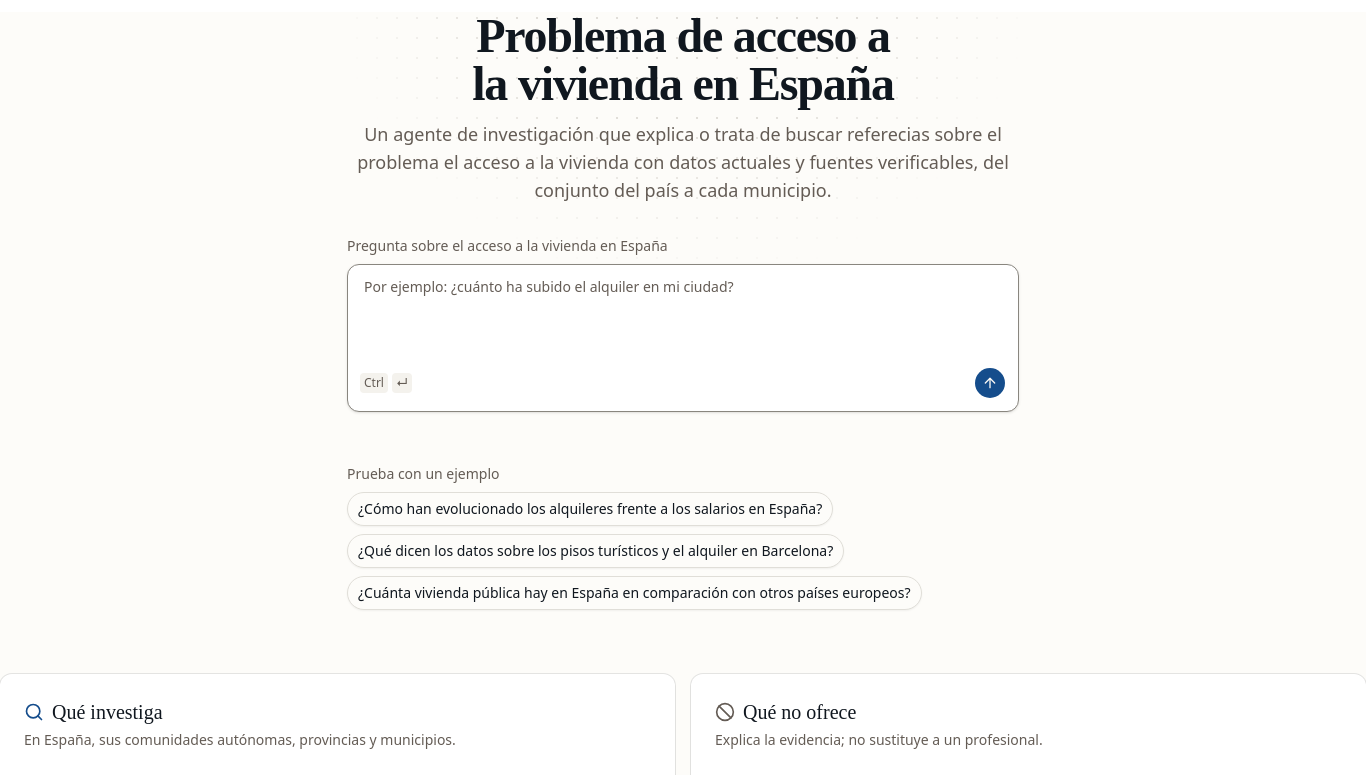
HomeView › replaces a draft with the chosen example
The image size is (1366, 775).
In the text box labelled "Pregunta sobre el acceso a la vivienda en España": [683, 313] box 348,265 -> 1018,361, type "Mi borrador"
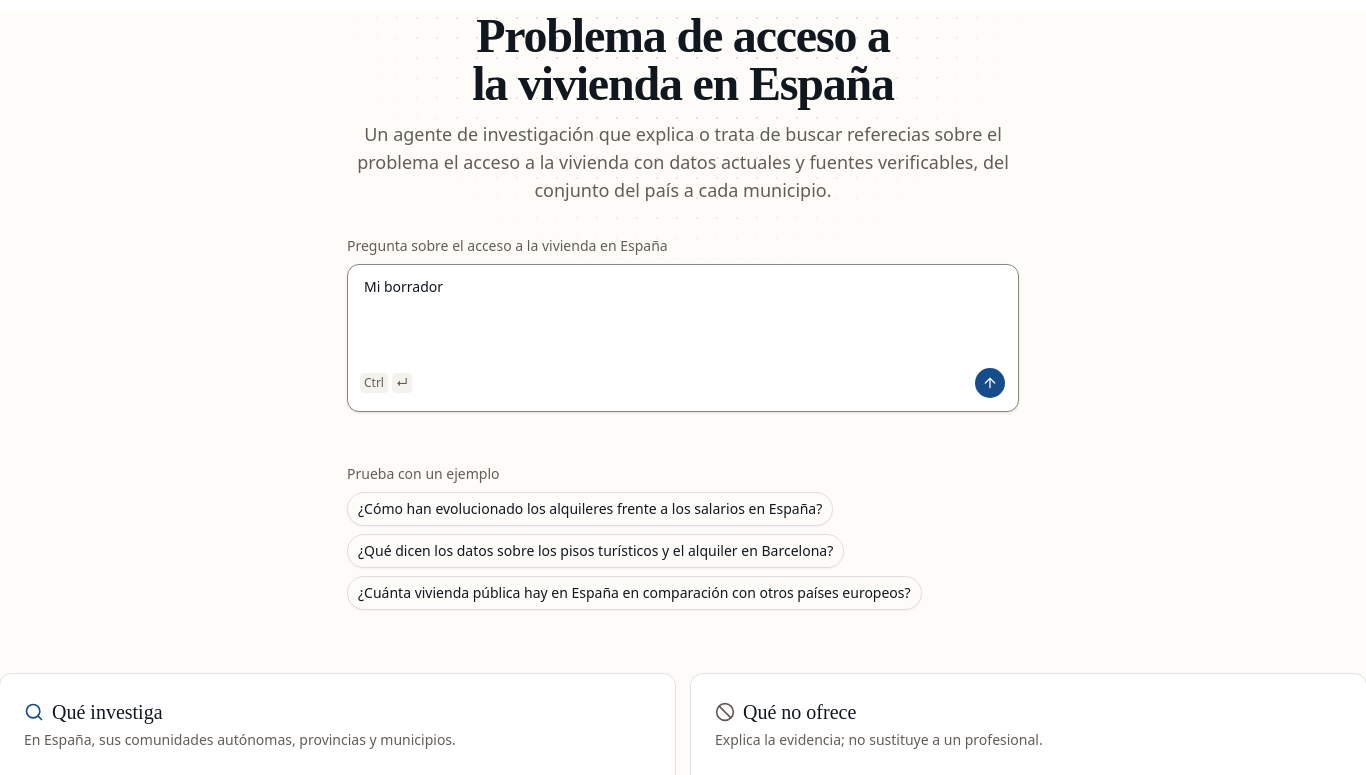
Click the 3rd button: [596, 551] box 347,534 -> 844,568
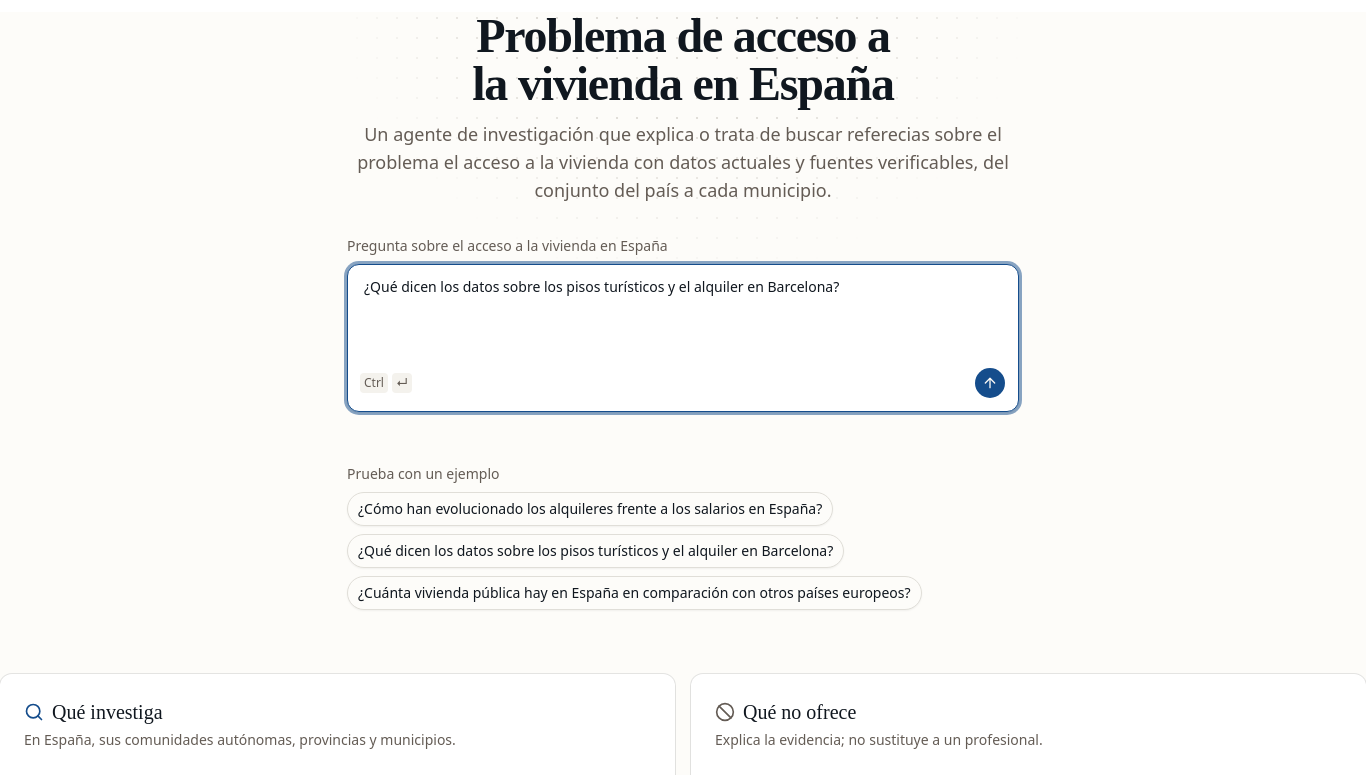
Expected: the text box labelled "Pregunta sobre el acceso a la vivienda en España" holds "¿Qué dicen los datos sobre los pisos turísticos y el alquiler en Barcelona?", 348,265 -> 1018,361
